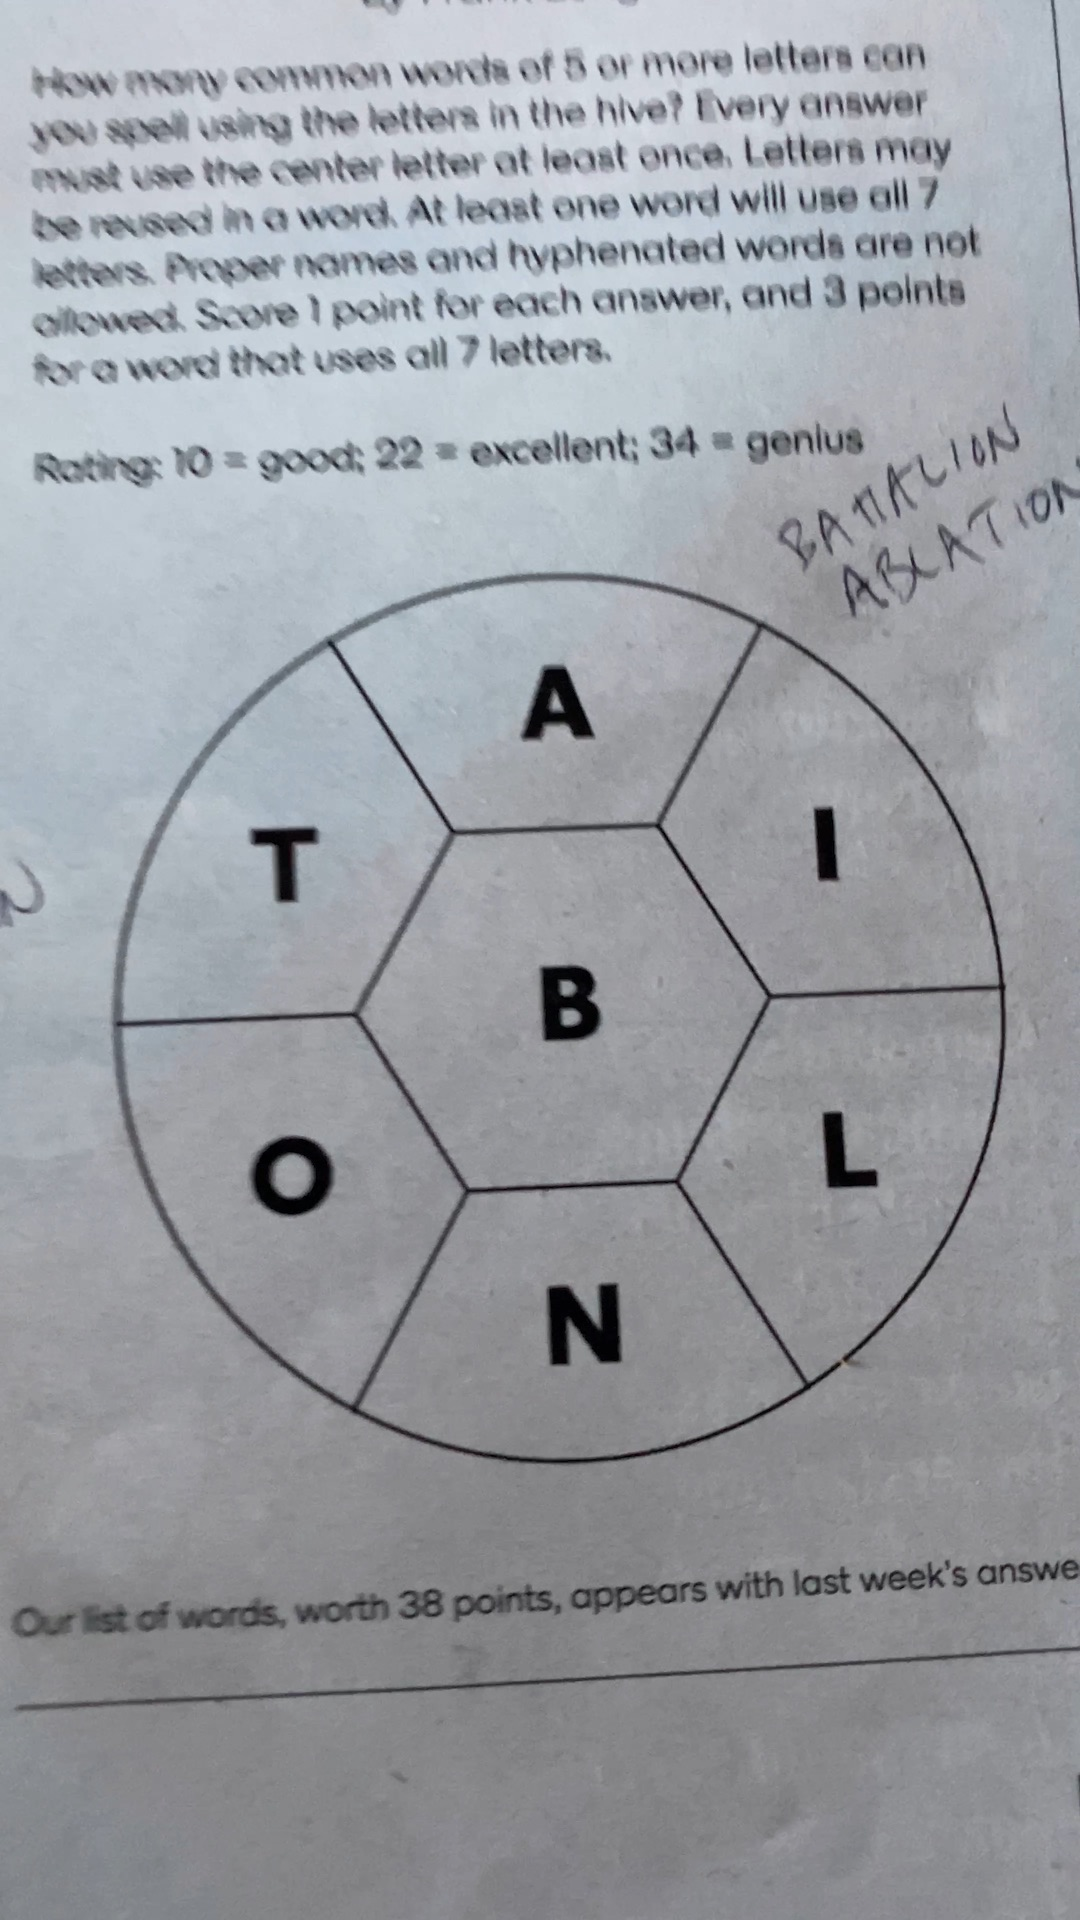Board: (83, 556, 1025, 1485)
